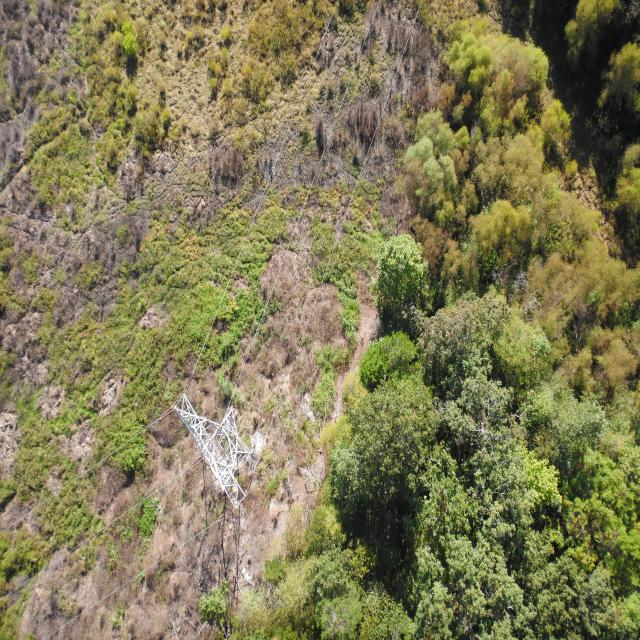Area of Interest: (263, 8, 635, 625)
